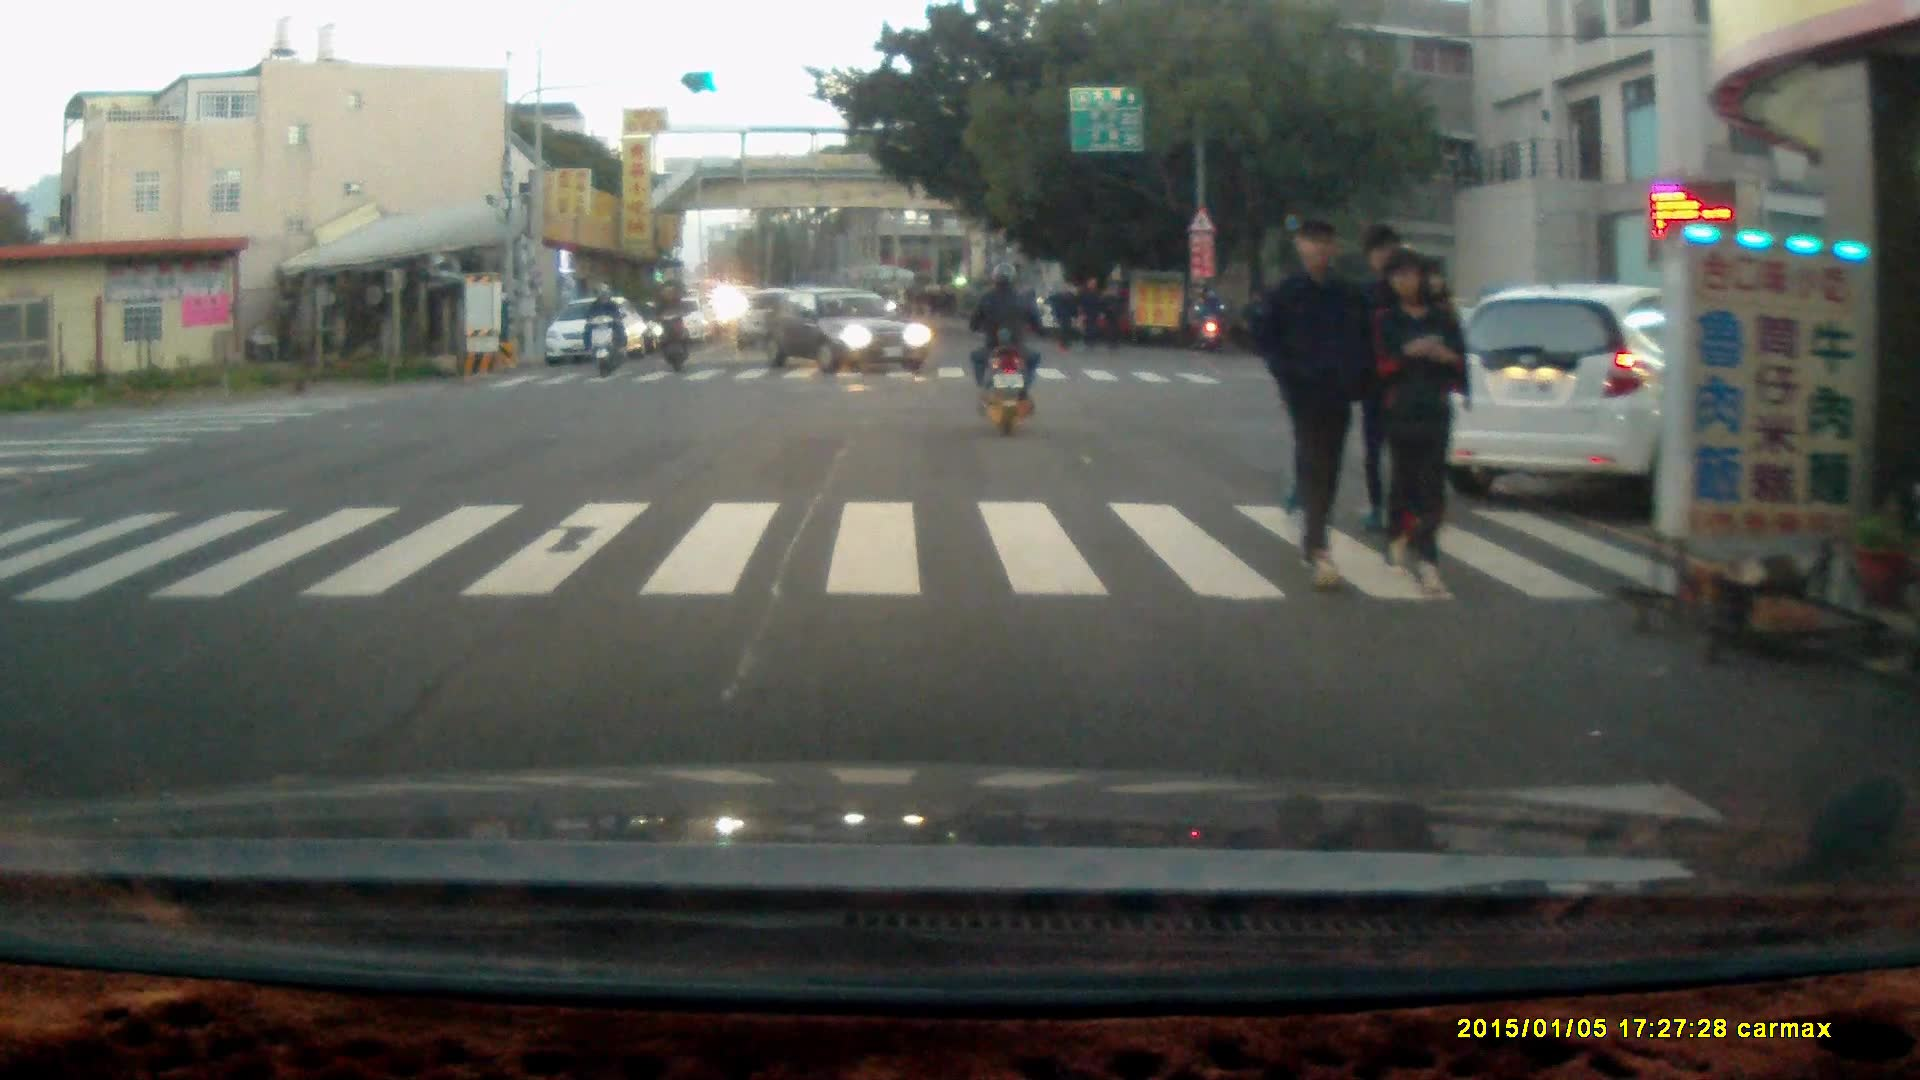pedestrian: (1254, 216, 1376, 594), (1370, 243, 1463, 593), (1095, 281, 1126, 352), (1077, 274, 1105, 355), (1047, 279, 1075, 353)
rider: (968, 258, 1040, 439), (584, 280, 626, 377), (651, 279, 694, 373), (1189, 290, 1229, 352)
vehicle: (1436, 277, 1886, 513), (760, 281, 934, 374), (545, 295, 648, 366)
